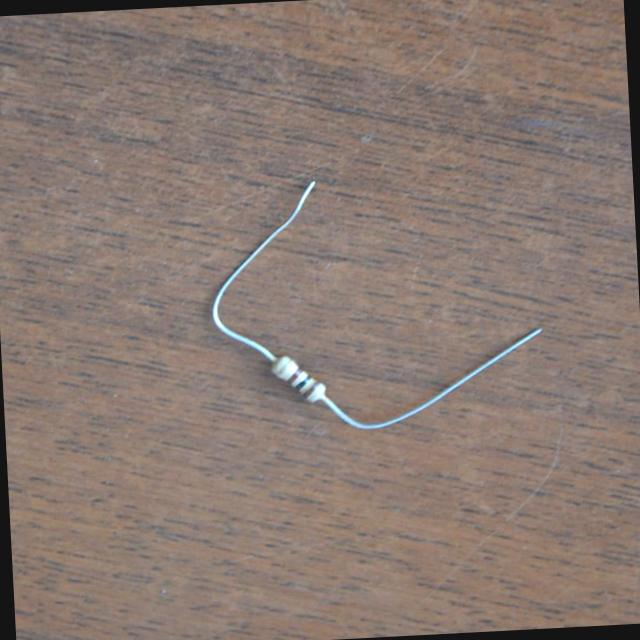Resistor: (272, 356, 326, 402)
black: (295, 375, 313, 390)
brown: (303, 381, 320, 399), (288, 368, 303, 384)
